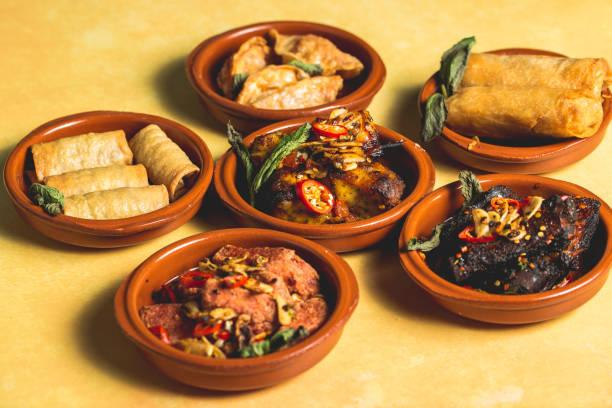Braised Crucian Carp: (113, 226, 353, 391), (396, 176, 609, 323), (1, 111, 216, 251), (216, 115, 432, 252), (417, 48, 610, 173), (186, 19, 387, 138)
